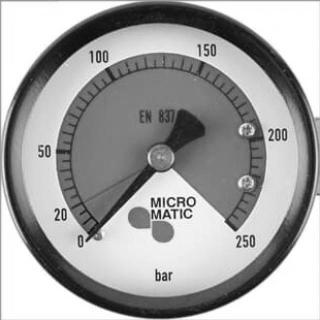gauge: (0, 0, 320, 320), (217, 212, 257, 250), (75, 218, 109, 250), (145, 141, 176, 173), (82, 231, 96, 246)
